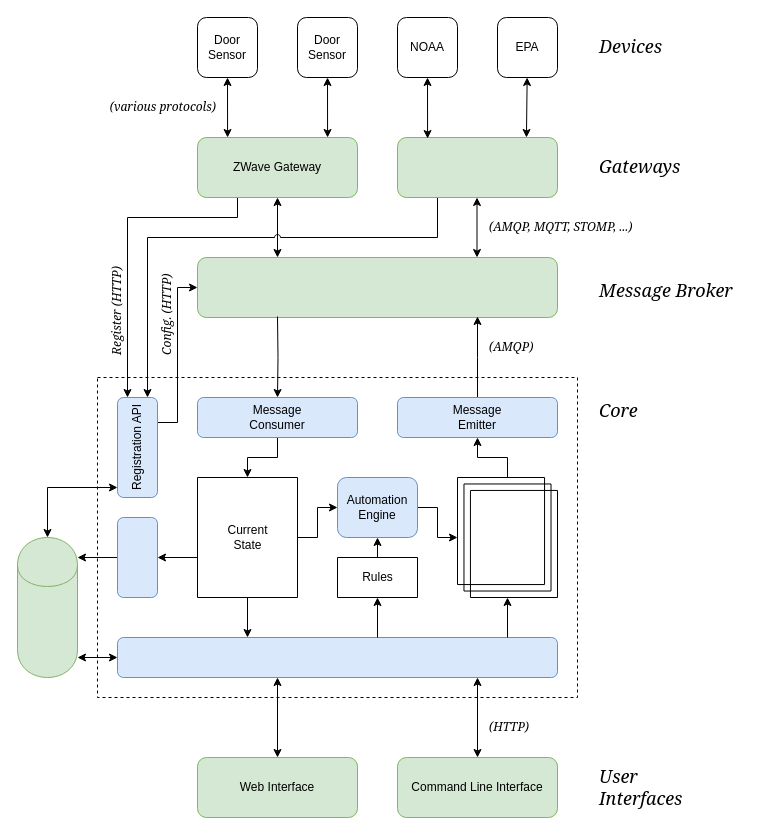
The diagram is 765 pixels wide and 835 high, and some of its shapes have lost their labels. Each missing label, with the centre of its shape:
"Archiver" goes at pixel 137 557.
"Desired State (Layered)" goes at pixel 507 537.
"RabbitMQ" goes at pixel 377 287.
"SQLite" goes at pixel 47 607.
"User API" goes at pixel 337 657.
"Weather/Environment Gateway" goes at pixel 477 167.
